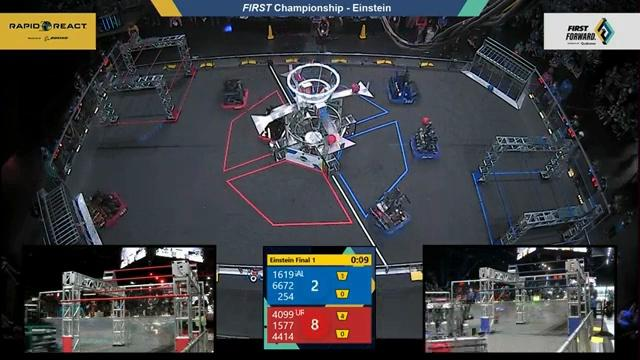robot: (364, 185, 414, 239), (83, 186, 129, 230), (409, 113, 446, 166), (383, 67, 420, 108), (217, 73, 252, 114), (257, 106, 292, 143)
